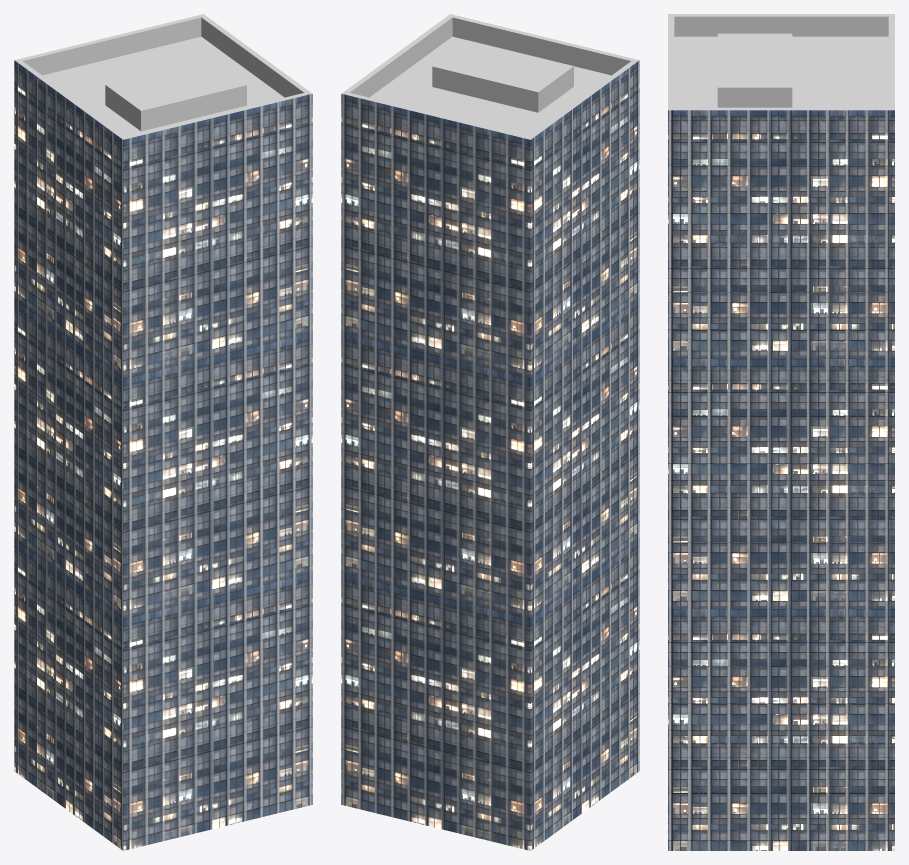
The model's file is rectangular-high-rise.glb.
3 renders of one model, left to right at view 1: azimuth 30°, elevation 25°; view 2: azimuth 150°, elevation 25°; view 3: azimuth 270°, elevation 25°, orthographic. The views are drawn at different scales.
Visible parts, largest first — view 1: rectangular-high-rise; view 2: rectangular-high-rise; view 3: rectangular-high-rise.
Part boxes in pixels (x1=…): rectangular-high-rise: x1=14, y1=14, x2=312, y2=850; rectangular-high-rise: x1=341, y1=14, x2=639, y2=850; rectangular-high-rise: x1=668, y1=14, x2=894, y2=850.
Bounding box in the file's own units: 51.05 × 184 × 50.89.
Materials: 2 (1 with a texture image).
